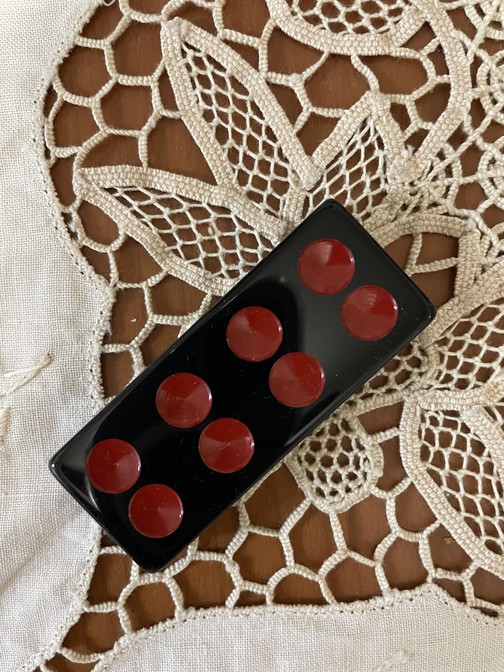man: (45, 200, 437, 575)
